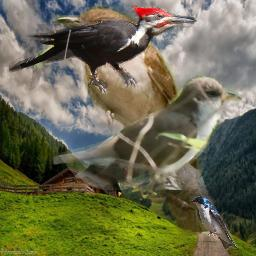Cuckoo: (52, 3, 216, 239), (53, 75, 242, 190)
Swallow: (190, 196, 238, 250)
Woodpecker: (9, 5, 197, 96)
